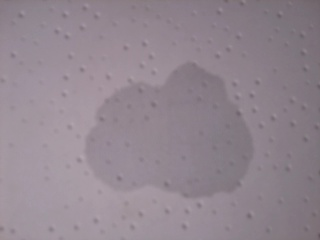Water_detected: (104, 82, 205, 180)
